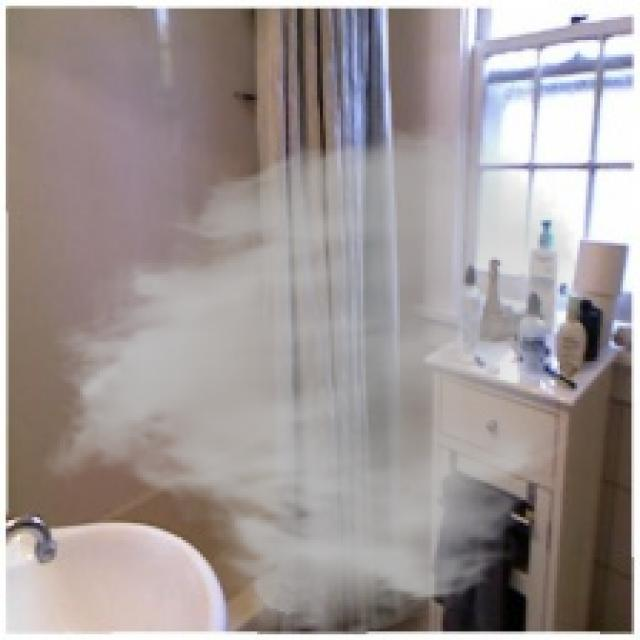Smoke: (39, 120, 592, 637)
